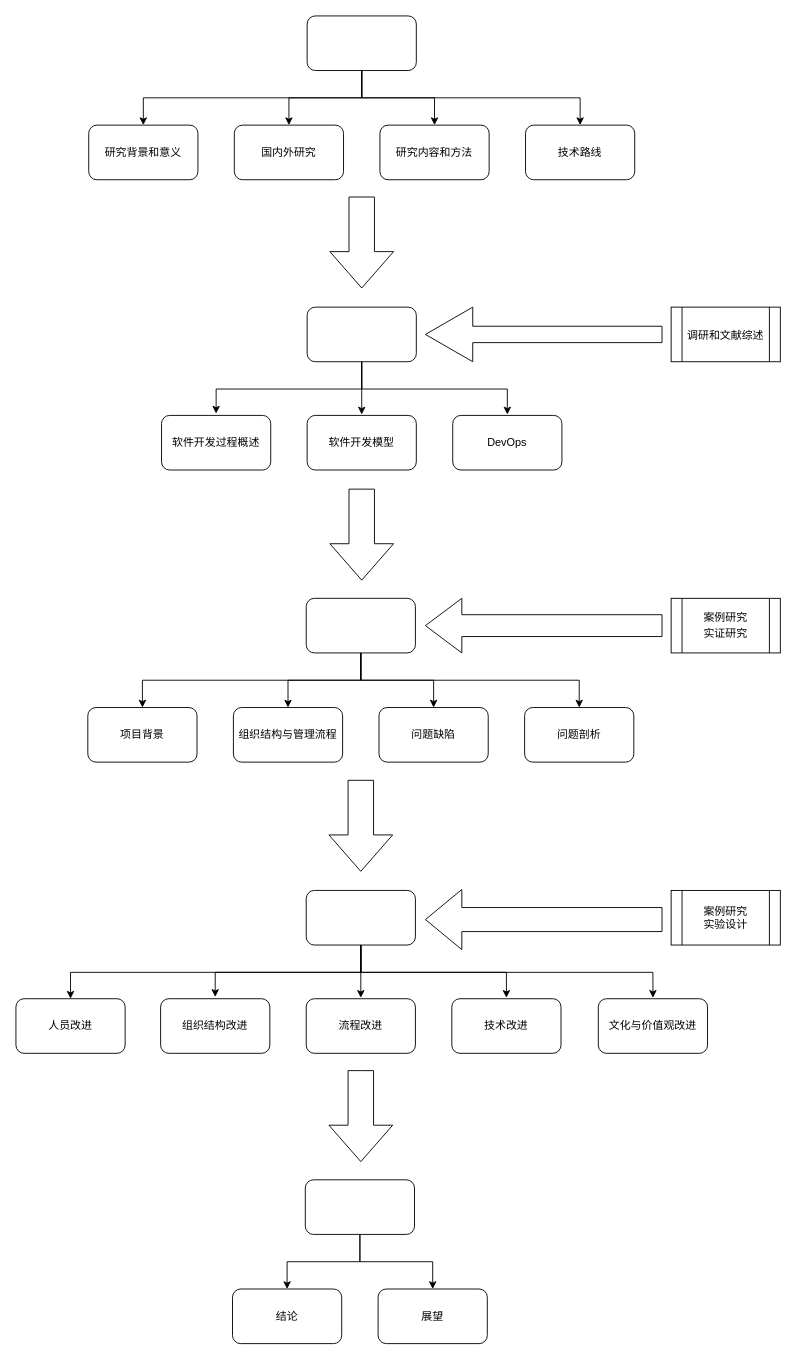
This 796x1360 diagram has some shape labels left out. Here are the shapes that lost their labels. From the top down, the centre of each, then its label:
At pixel 361 43: "绪论".
At pixel 361 334: "理论基础".
At pixel 360 625: "H 公司软件项目质量现状".
At pixel 360 917: "采用DevOps H 公司软件项目质量改进方案".
At pixel 359 1206: "结论与展望".
